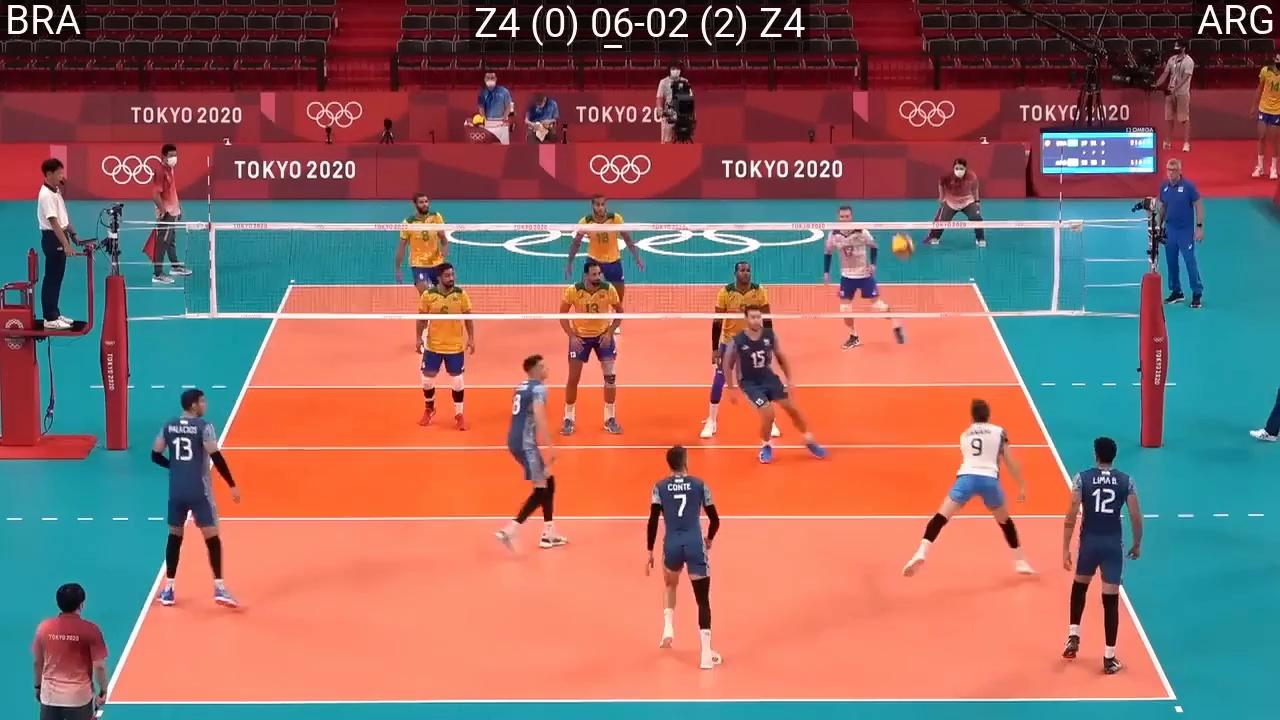ball: (891, 232, 915, 258)
